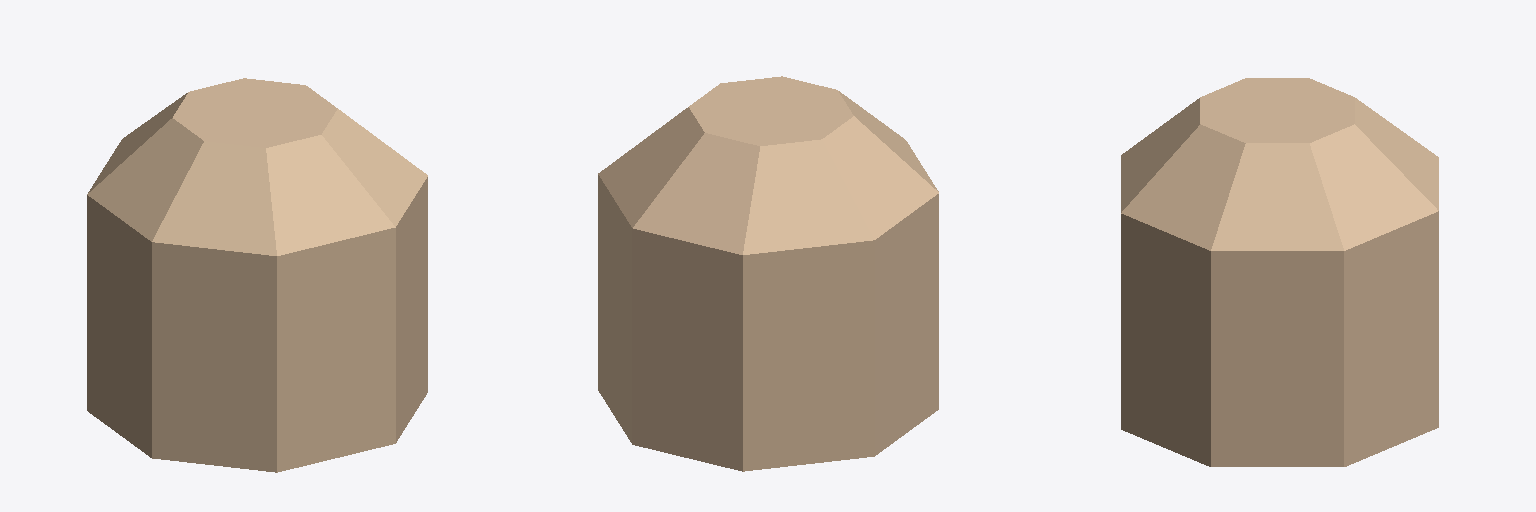
Rendered from Wall_End_Coping.obj.
3 renders of one model, left to right at view 1: azimuth 30°, elevation 25°; view 2: azimuth 150°, elevation 25°; view 3: azimuth 270°, elevation 25°, orthographic.
Parts seen in each view (by area): view 1: object1; view 2: object1; view 3: object1.
Boxes of the visible parts, box(x1,y1,x2,y2) form: object1: box(87, 78, 427, 472); object1: box(598, 76, 938, 471); object1: box(1121, 78, 1438, 466).
Bounding box in the file's own units: 0.2 × 0.2 × 0.2.